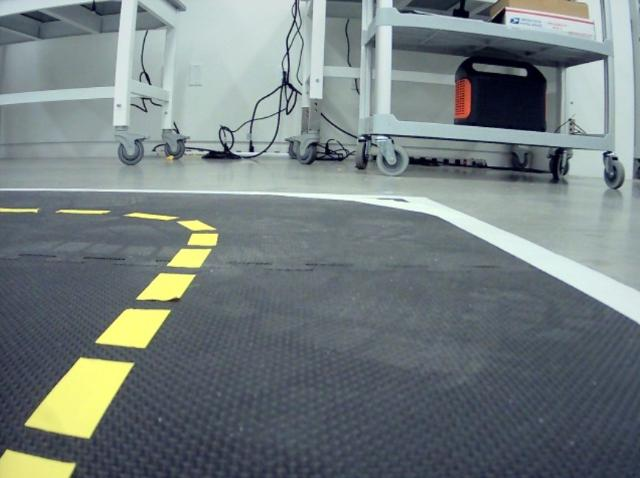whiteline: (405, 196, 640, 327), (0, 187, 431, 199)
yellowline: (0, 231, 220, 478), (125, 213, 219, 232), (0, 205, 112, 216)
